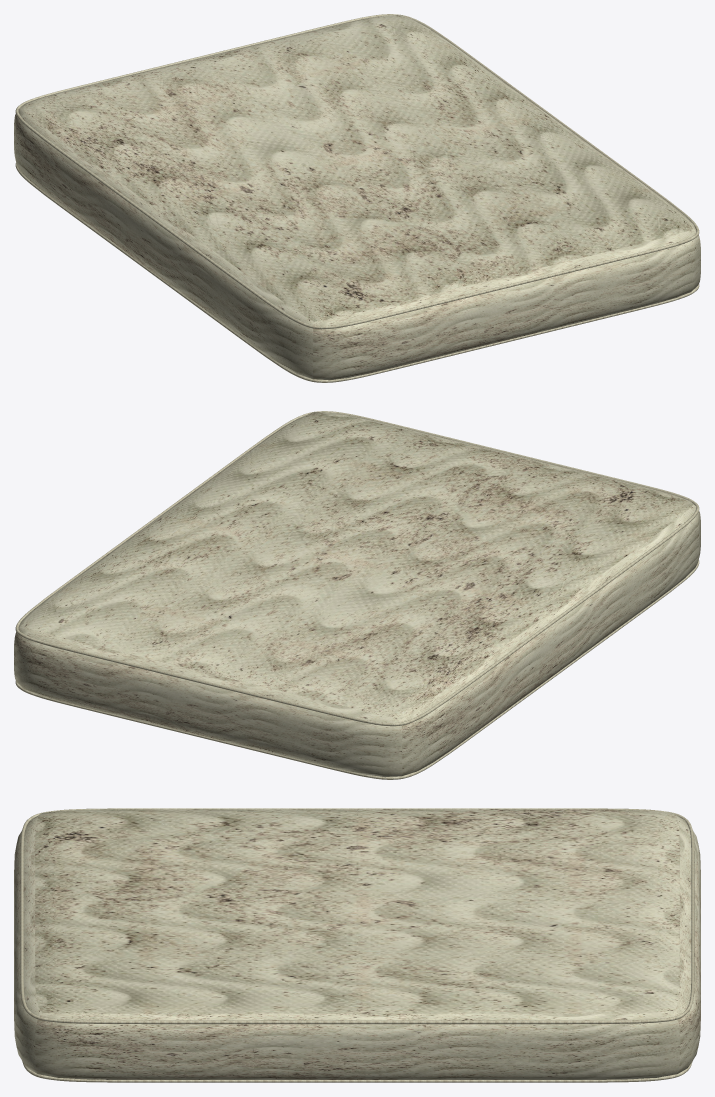
File: Mattress.FBX
3 renders of one model, top to bottom at view 1: azimuth 30°, elevation 25°; view 2: azimuth 150°, elevation 25°; view 3: azimuth 270°, elevation 25°, orthographic. The views are drawn at different scales.
Visible parts, largest first — view 1: Box002; view 2: Box002; view 3: Box002.
Boxes of the visible parts, left/top/right/bottom form: Box002: left=14, top=14, right=700, bottom=382; Box002: left=14, top=411, right=700, bottom=779; Box002: left=14, top=808, right=700, bottom=1082.
Size of the model in its own units: 60 by 10 by 80.
Materials: 1 (1 with a texture image).
